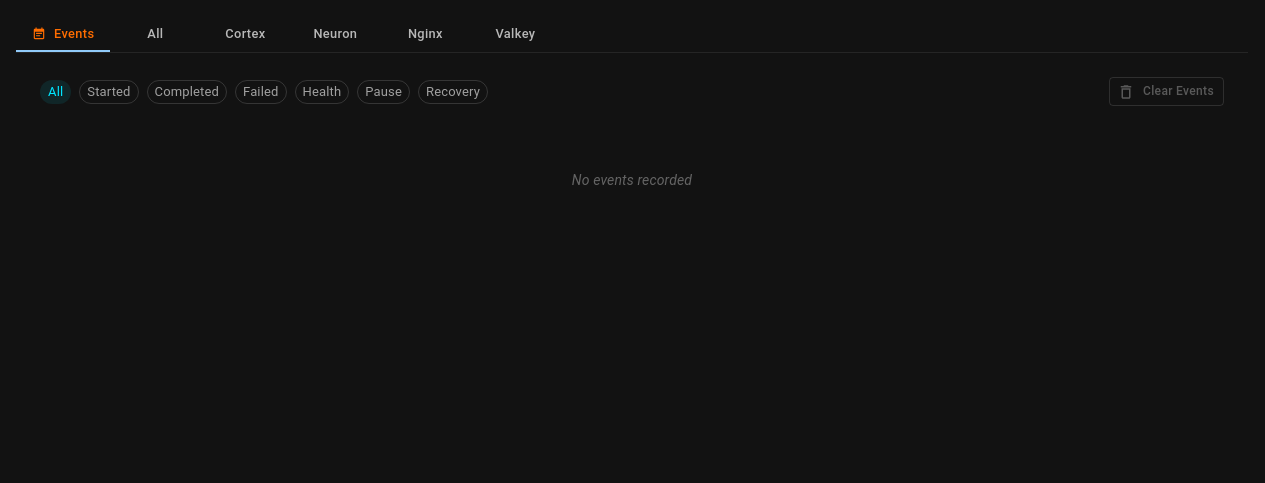
Scenario: LogsTab › changes the log level via the select and reflects the new value
Click the tab "All" at coordinates (155, 34), box [110, 16, 200, 52]
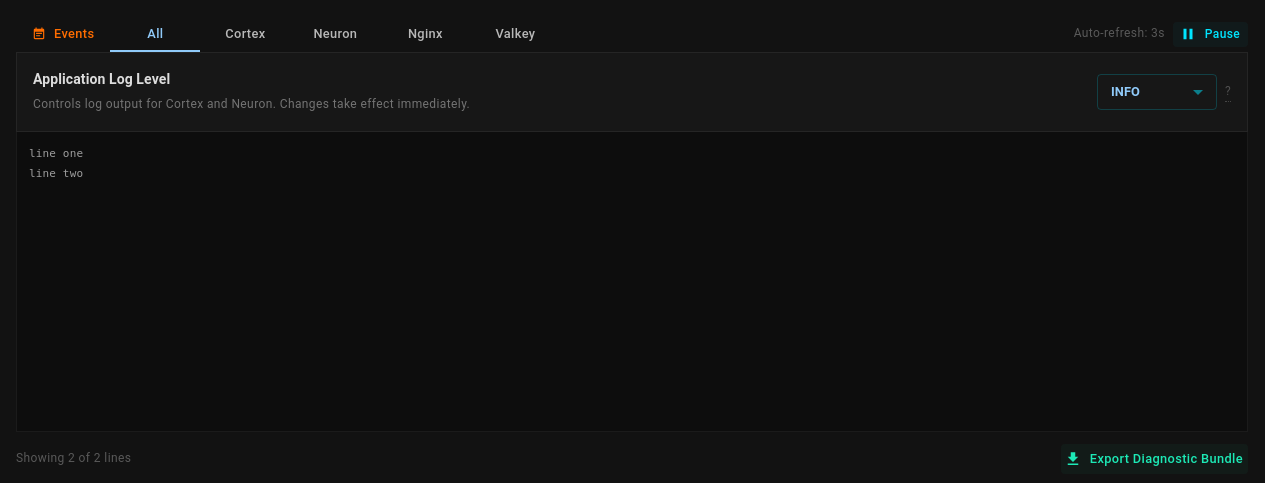
Expected: the heading "Application Log Level" is shown, [33, 71, 170, 87]
Press the mouse on the dropdown at coordinates (1125, 91), box [1111, 84, 1140, 99]
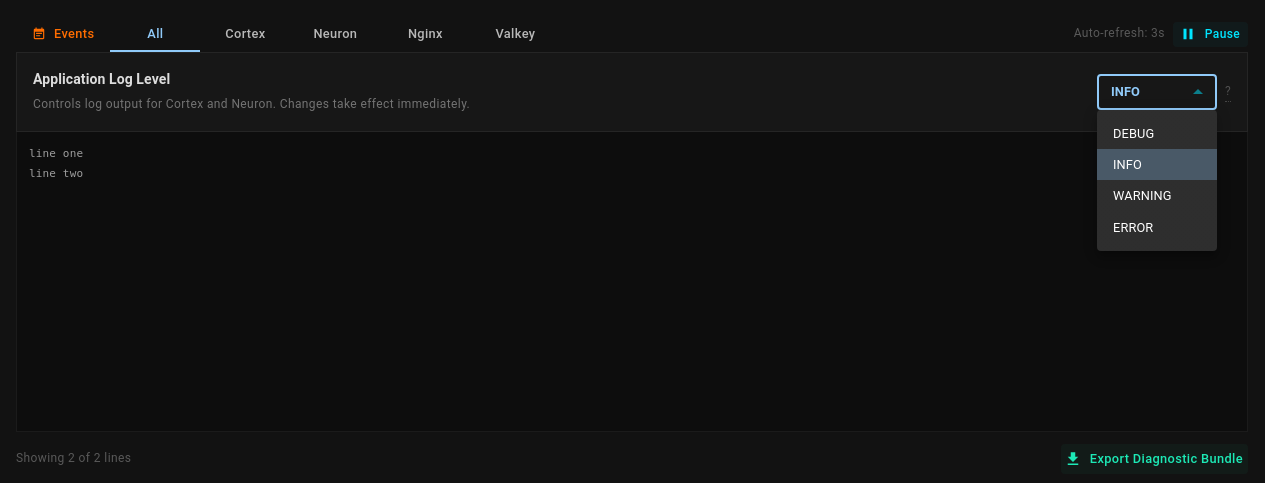
Click the option "DEBUG" at coordinates (1134, 134), box [1113, 126, 1154, 141]
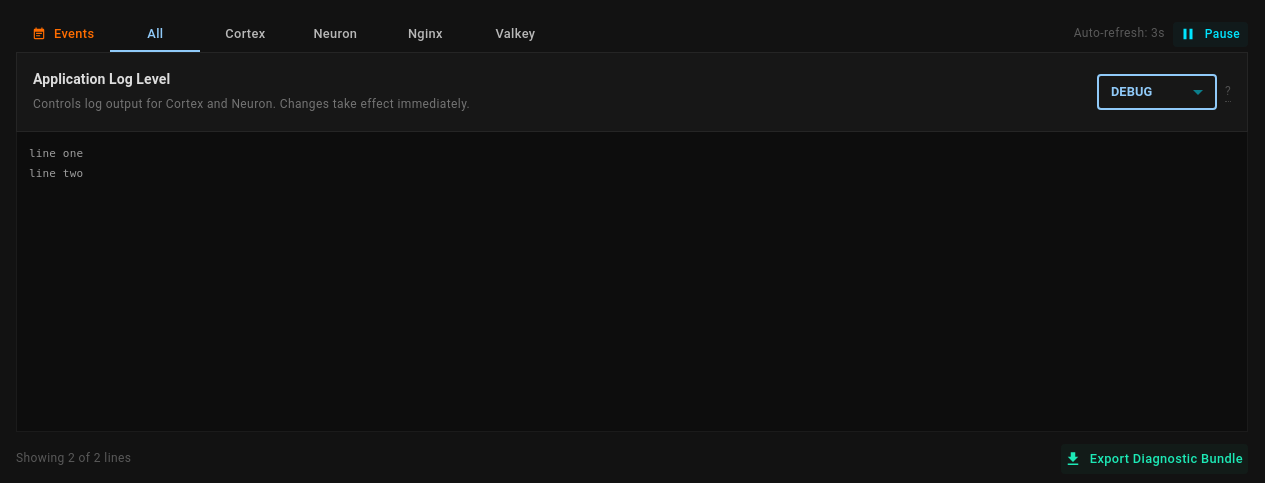
Expected: the dropdown "DEBUG" is shown, [1111, 84, 1152, 99]
